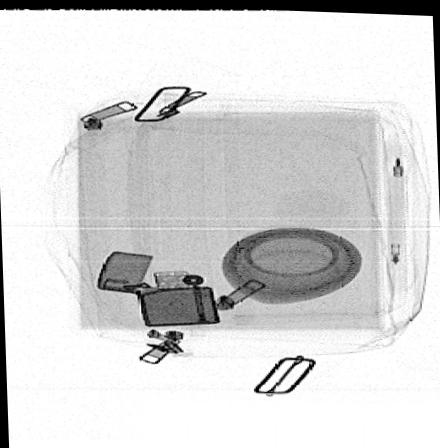Lighter: (94, 248, 219, 325)
